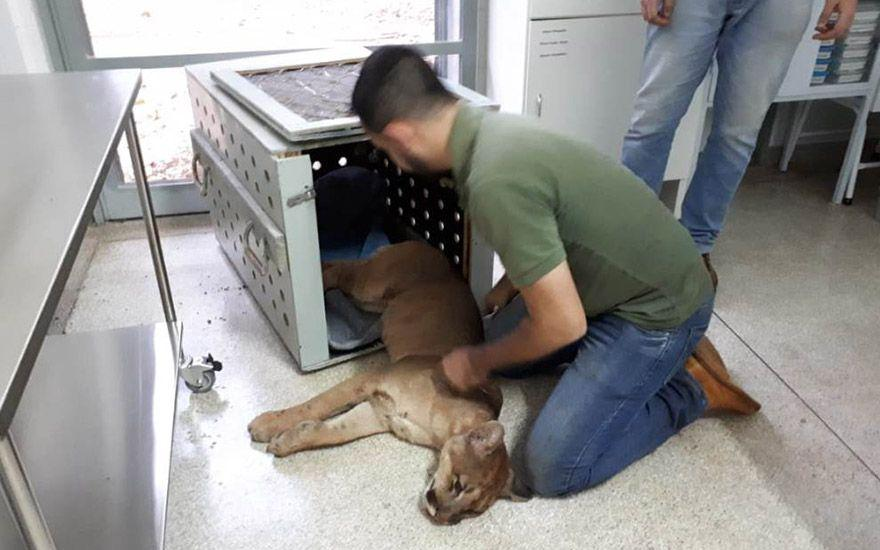OncaParda: (259, 237, 519, 537)
